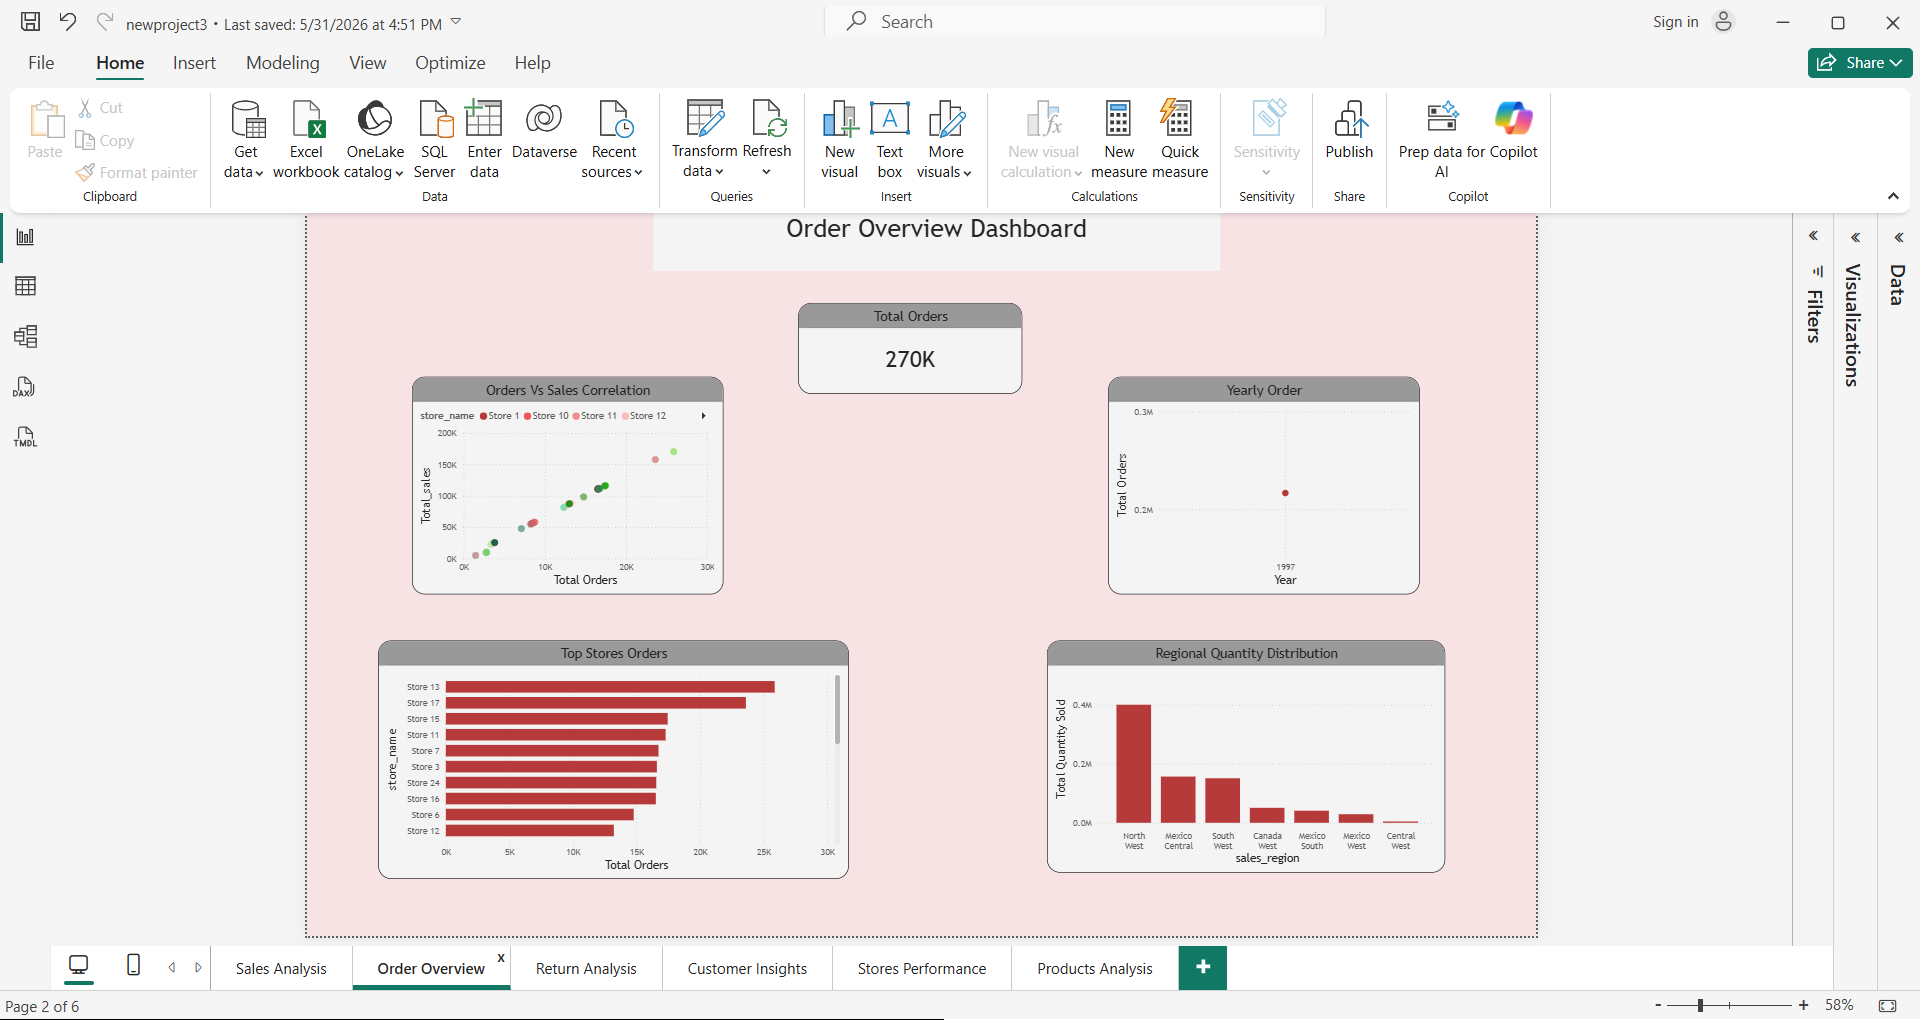

The page's visual inventory and layout, read from the dashboard file:
{"tool":"powerbi","page":{"name":"Order Overview","canvas":[1700,1000],"ordinal":1},"visuals":[{"type":"card","title":"Total Orders ","fields":{"Values":["Transaction1997.Total Orders"]},"box":[679.8,123.9,309.8,125.8],"z":0},{"type":"lineChart","title":"Yearly Order ","fields":{"Category":["Transaction1997.transaction_date.Variation.Date Hierarchy.Year","Transaction1997.transaction_date.Variation.Date Hierarchy.Month"],"Y":["Transaction1997.Total Orders"]},"box":[1108.1,226,430.1,300.7],"z":1000},{"type":"clusteredBarChart","title":"Top Stores Orders ","fields":{"Category":["Stores.store_name"],"Y":["Transaction1997.Total Orders"]},"box":[98.4,590.5,650.6,329.9],"z":2000},{"type":"columnChart","title":"Regional Quantity Distribution ","fields":{"Category":["Regions.sales_region"],"Y":["Transaction1997.Total Quantity Sold"]},"box":[1022.4,590.5,550.4,320.8],"z":3000},{"type":"scatterChart","title":"Orders Vs Sales Correlation ","fields":{"Series":["Stores.store_name"],"X":["Transaction1997.Total Orders"],"Y":["Transaction1997.Total_sales"]},"box":[145.8,226,430.1,300.7],"z":4000},{"type":"textbox","title":"Order Overview Dashboard ","box":[479.3,0,783.7,80.2],"z":5000}]}

Visuals, with their boxes on the page's 1700x1000 design canvas (x1, y1, x2, y2). These are canvas units, not pixel positions in the 1920x1020 screenshot, which may show the page scaled, cropped or inside an application window:
"Total Orders " card: [680,124,990,250]
"Yearly Order " lineChart: [1108,226,1538,527]
"Top Stores Orders " clusteredBarChart: [98,590,749,920]
"Regional Quantity Distribution " columnChart: [1022,590,1573,911]
"Orders Vs Sales Correlation " scatterChart: [146,226,576,527]
"Order Overview Dashboard " textbox: [479,0,1263,80]
